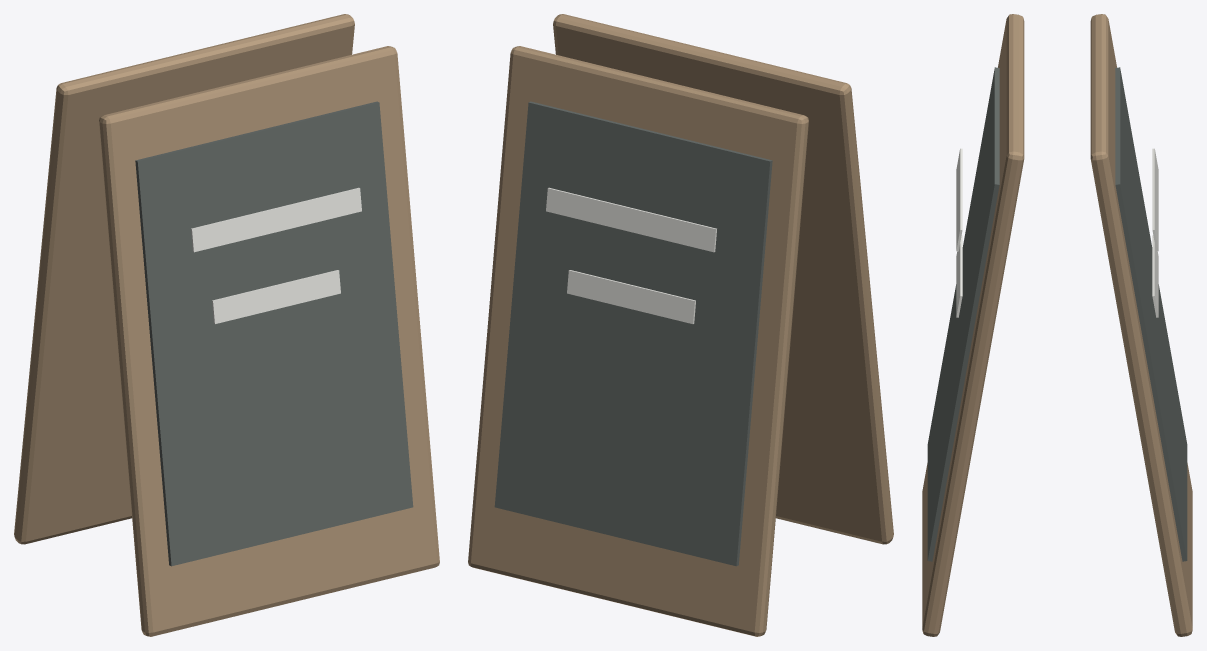
File: a_board.glb
3 renders of one model, left to right at view 1: azimuth 30°, elevation 25°; view 2: azimuth 150°, elevation 25°; view 3: azimuth 270°, elevation 25°, orthographic.
Visible parts, largest first — view 1: a_board; view 2: a_board; view 3: a_board.
Part boxes in pixels (x1,y1,x2,y2): a_board: [14, 14, 439, 636]; a_board: [468, 14, 893, 636]; a_board: [922, 14, 1192, 636].
Bounding box in the file's own units: 0.56 × 0.8901 × 0.4498.
